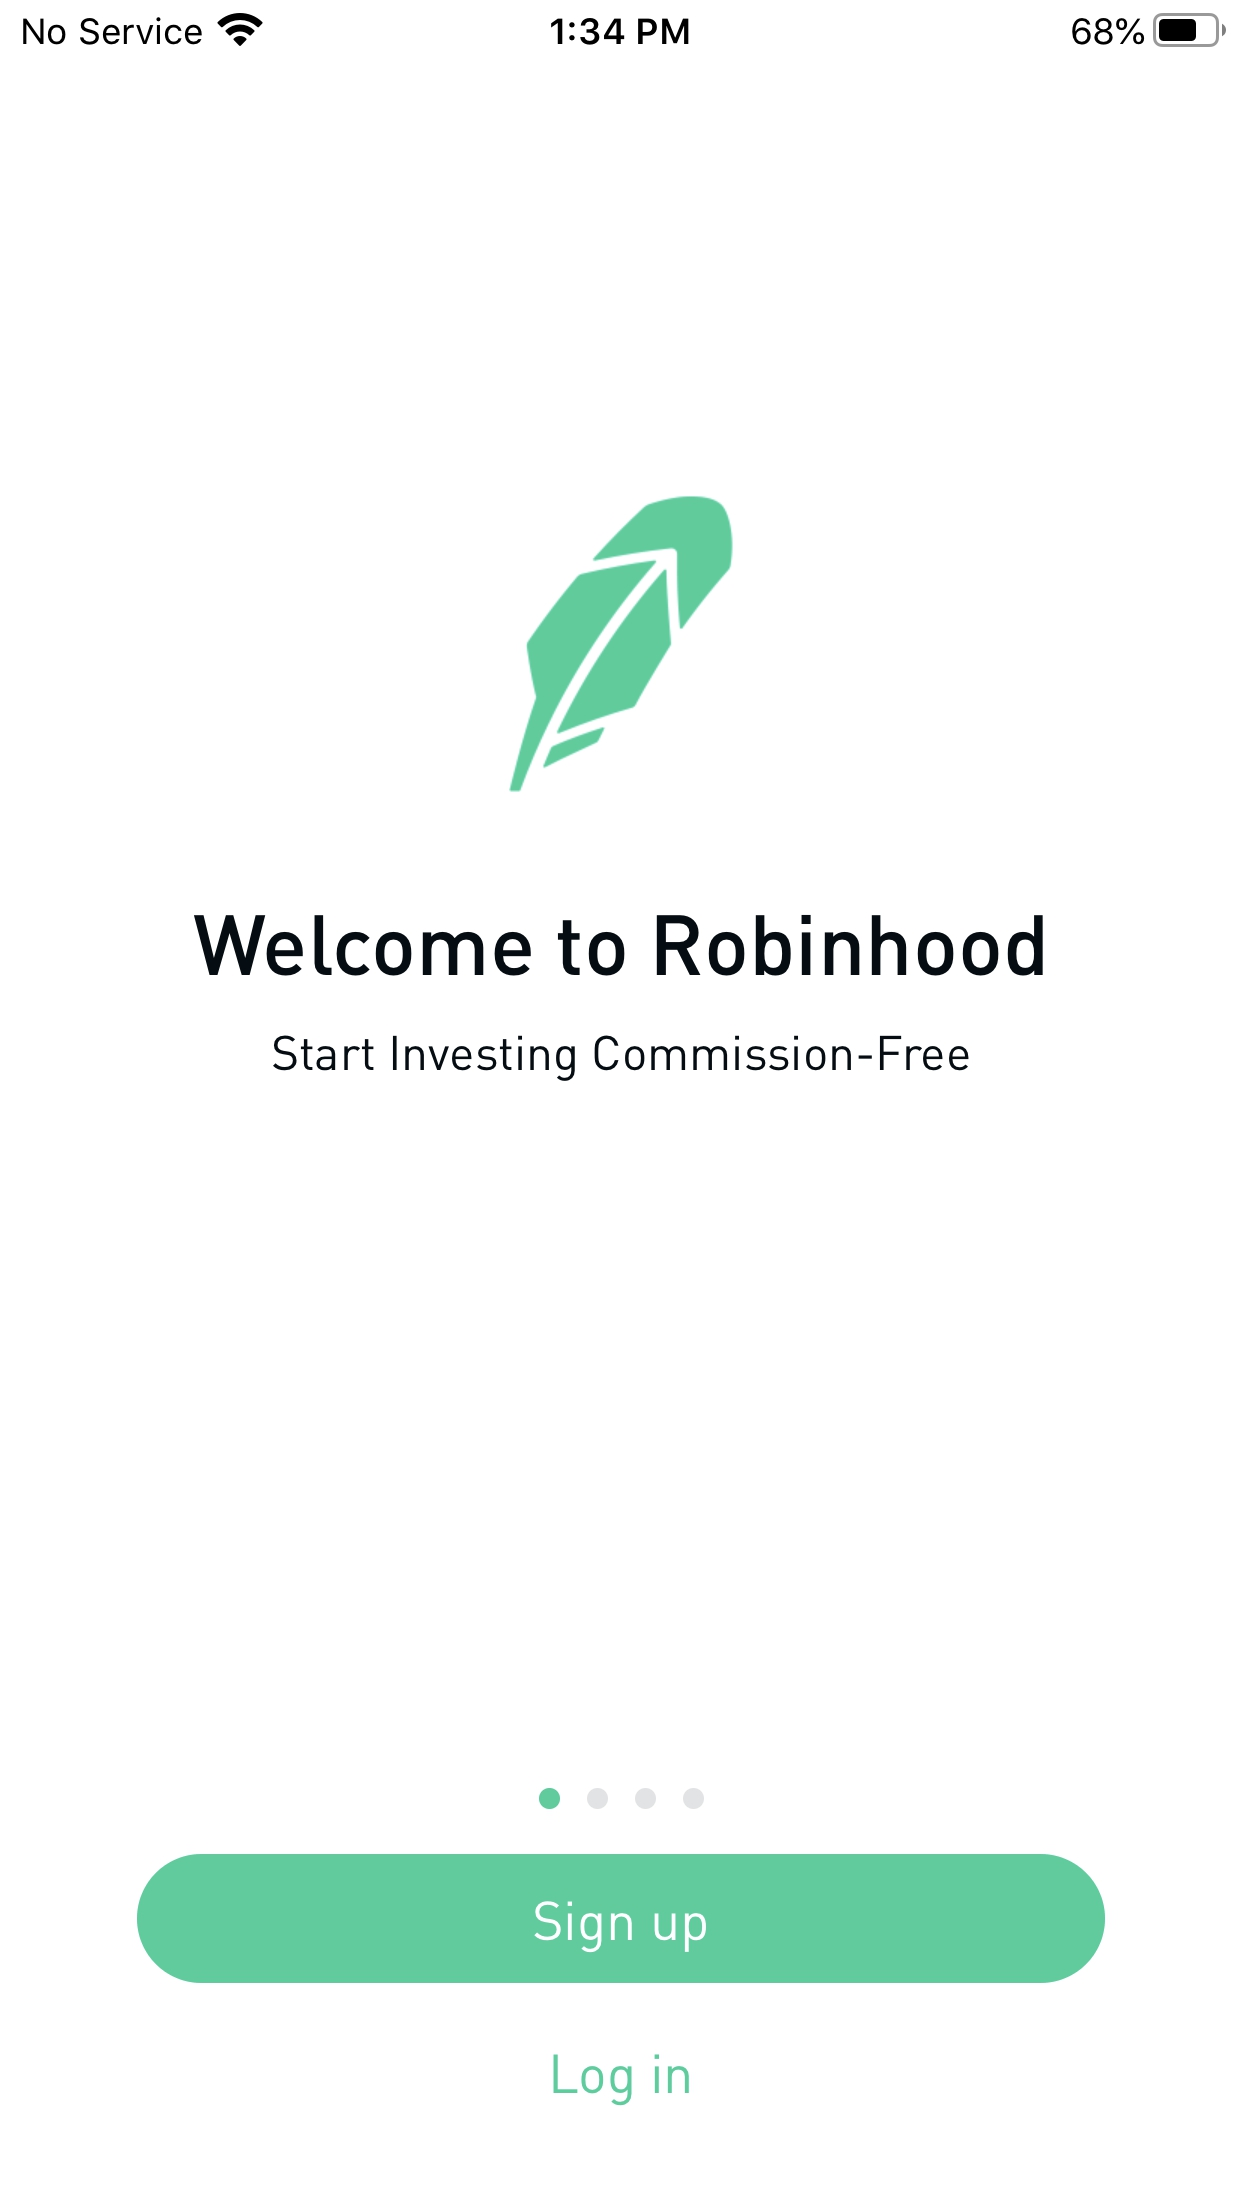Image: (510, 496, 732, 792)
PageIndicator: (538, 1786, 704, 1809)
Text: (194, 914, 1043, 977), (273, 1034, 969, 1081), (554, 2053, 688, 2105)
TextButton: (136, 1855, 1106, 1984)
UpperTaskBar: (2, 2, 1242, 49)
